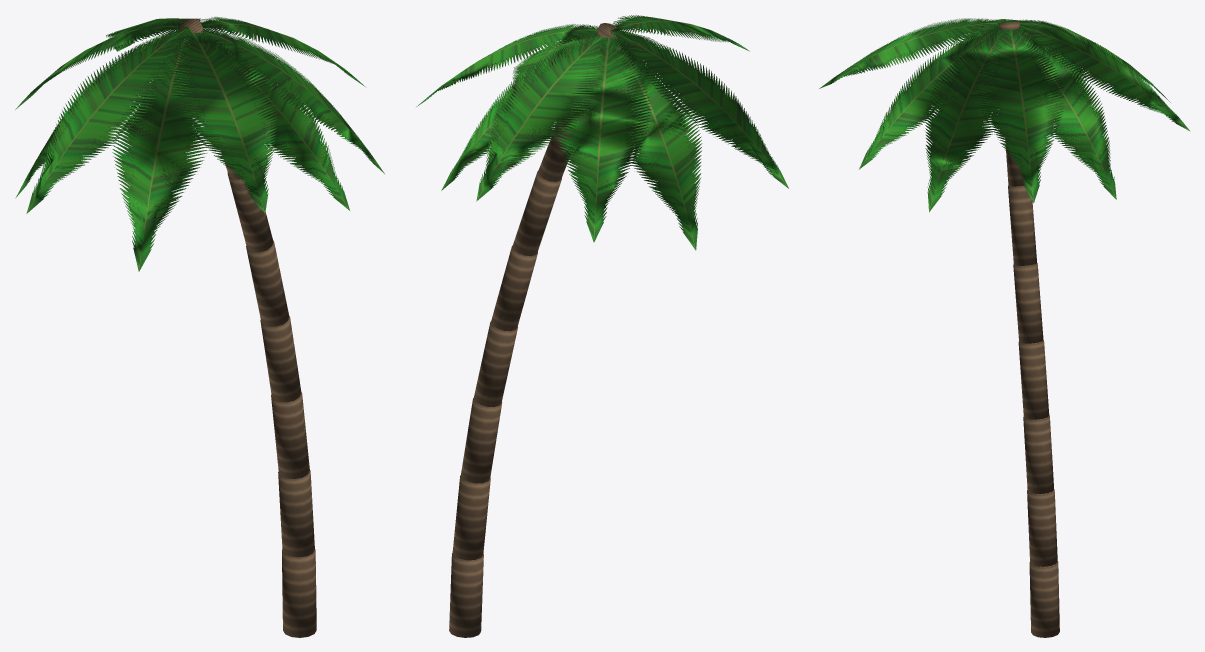
File: Palm_B.fbx
The picture shows the model from 3 angles, left to right: view 1: azimuth 30°, elevation 25°; view 2: azimuth 150°, elevation 25°; view 3: azimuth 270°, elevation 25°; orthographic projection. The views are drawn at different scales.
Parts seen in each view (by area): view 1: Palm_B; view 2: Palm_B; view 3: Palm_B.
Part boxes in pixels (x1,y1,x2,y2): Palm_B: (15, 17, 384, 637); Palm_B: (416, 15, 788, 637); Palm_B: (819, 18, 1190, 637).
Size of the model in its own units: 5.03 by 8.56 by 5.18.
